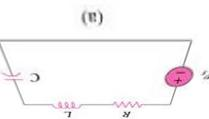resistor: (108, 96, 144, 110)
